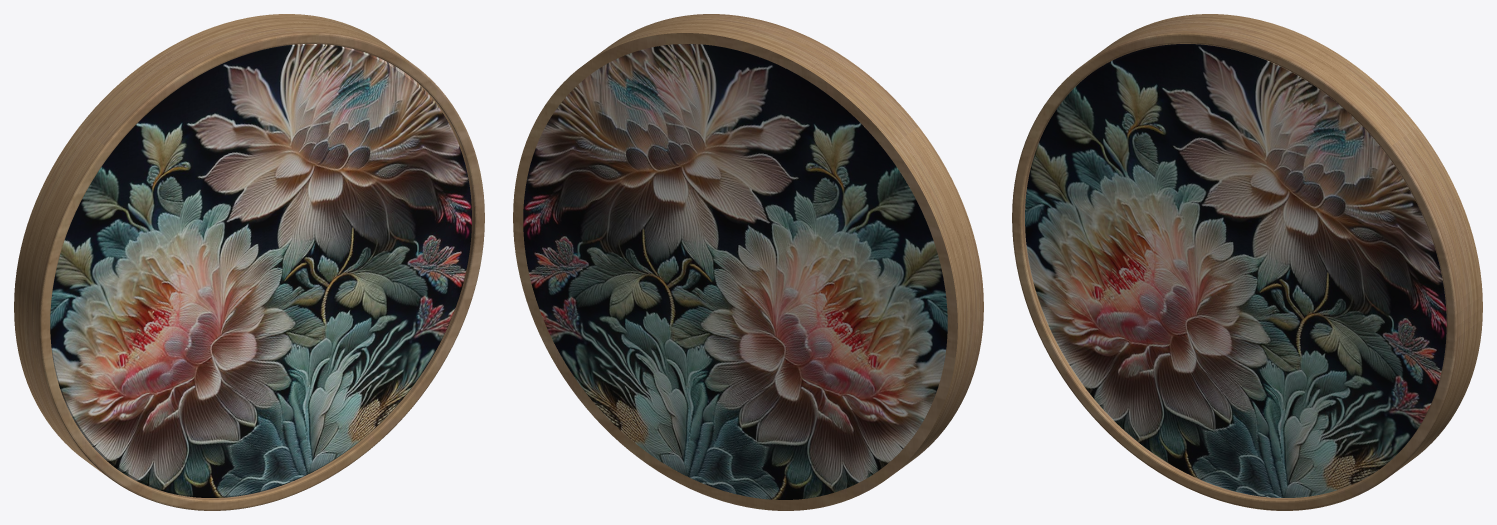
3 renders of one model, left to right at view 1: azimuth 30°, elevation 25°; view 2: azimuth 150°, elevation 25°; view 3: azimuth 330°, elevation 25°, orthographic.
Bounding box in the file's own units: 22.25 × 22.25 × 2.32.
2 materials, 2 textured.
